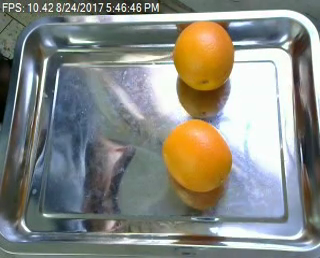Orange: (163, 117, 232, 190), (172, 20, 234, 90)
